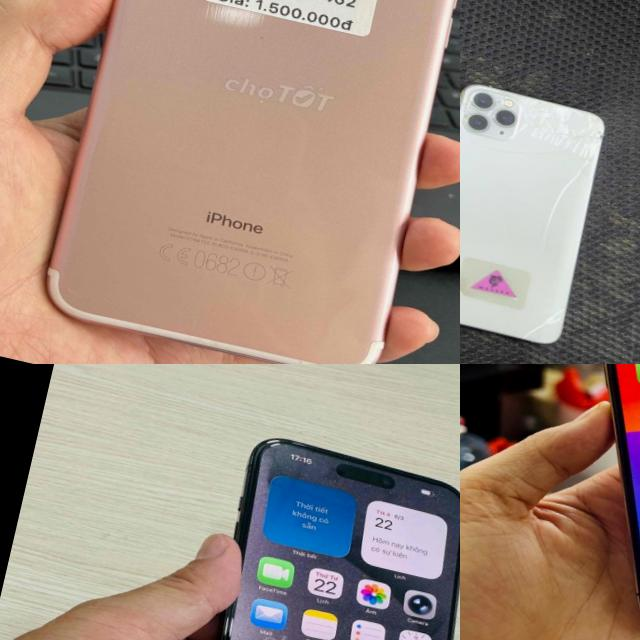physical_damage: (516, 100, 607, 164), (461, 86, 525, 140), (552, 159, 596, 217), (532, 210, 576, 260), (530, 254, 577, 300), (529, 294, 572, 334), (460, 130, 482, 178), (515, 324, 544, 344), (460, 175, 473, 212)
scratch: (180, 330, 232, 360), (254, 22, 278, 48), (279, 349, 318, 364), (99, 290, 130, 307)
